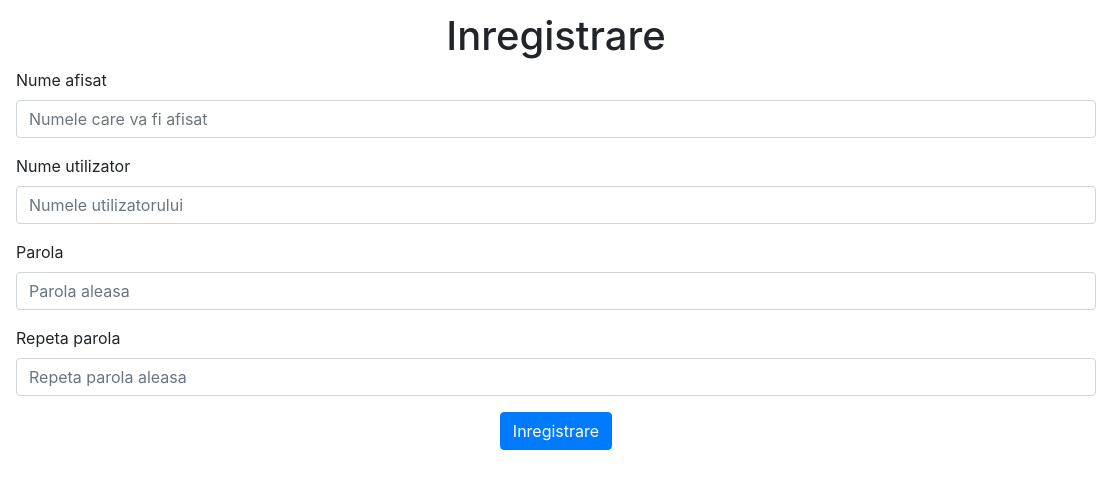
Test: PaginaInregistrareUtilizator › Interactiuni › 12. Afișează eroarea de validare pentru numele utilizatorului atunci când primește eroare pentru acest câmp.
This screenshot has width=1113, height=490.
Type "nume-afisat" into the field with placeholder "Numele care va fi afisat" at (556, 119), box x1=16 y1=100 x2=1096 y2=138
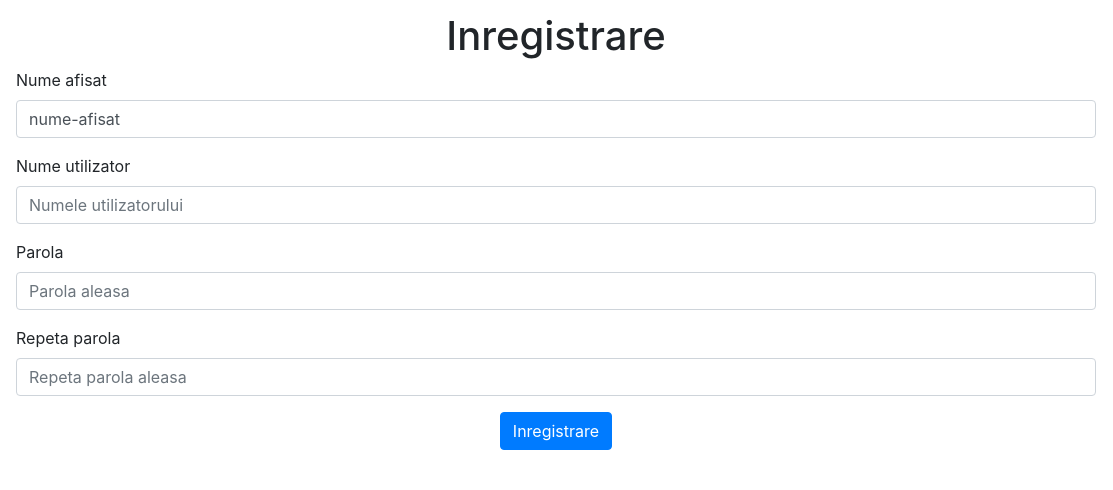
Type "nume-utilizator" into the field with placeholder "Numele utilizatorului" at (556, 205), box x1=16 y1=186 x2=1096 y2=224
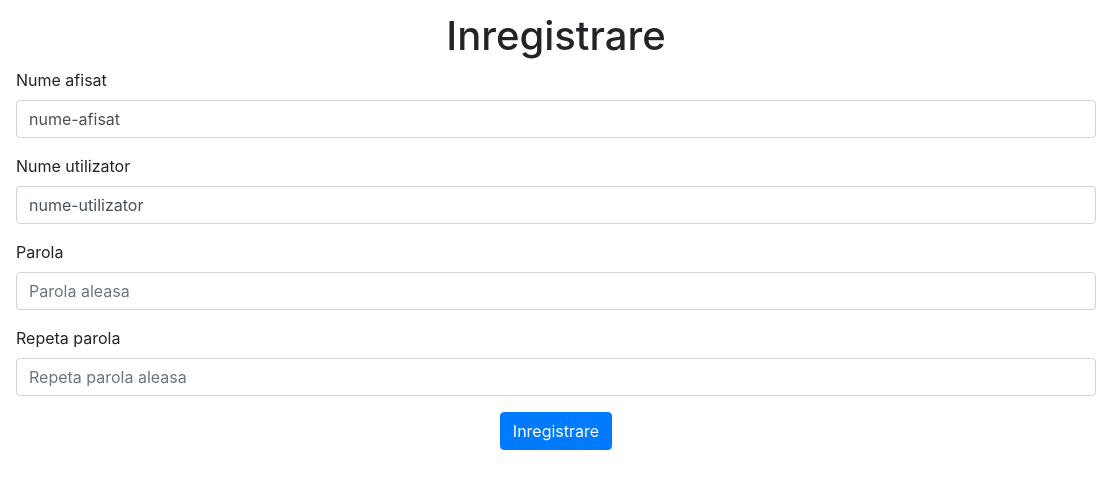
Type "Parola01" into the password field with placeholder "Parola aleasa" at (556, 291), box x1=16 y1=272 x2=1096 y2=310
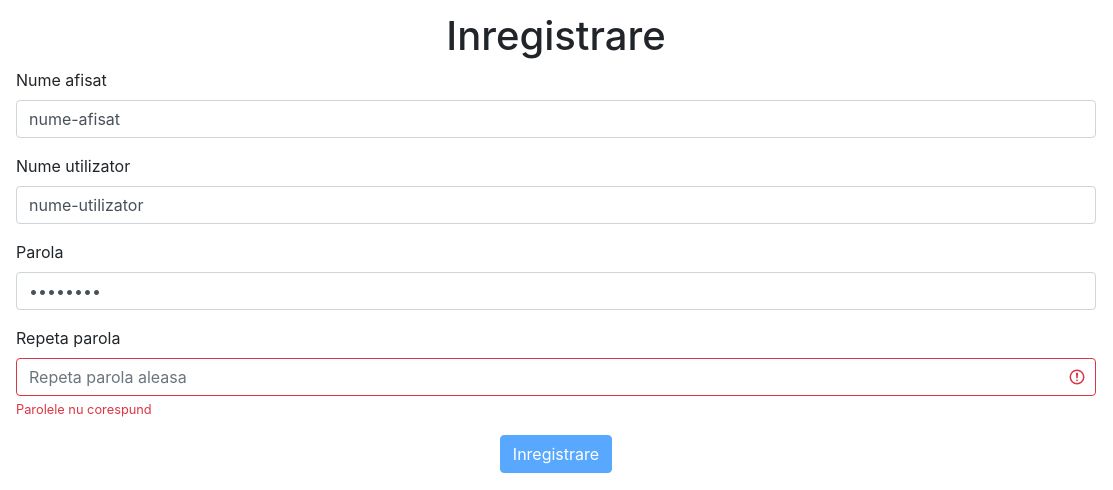
Type "Parola01" into the password field with placeholder "Repeta parola aleasa" at (556, 377), box x1=16 y1=358 x2=1096 y2=396
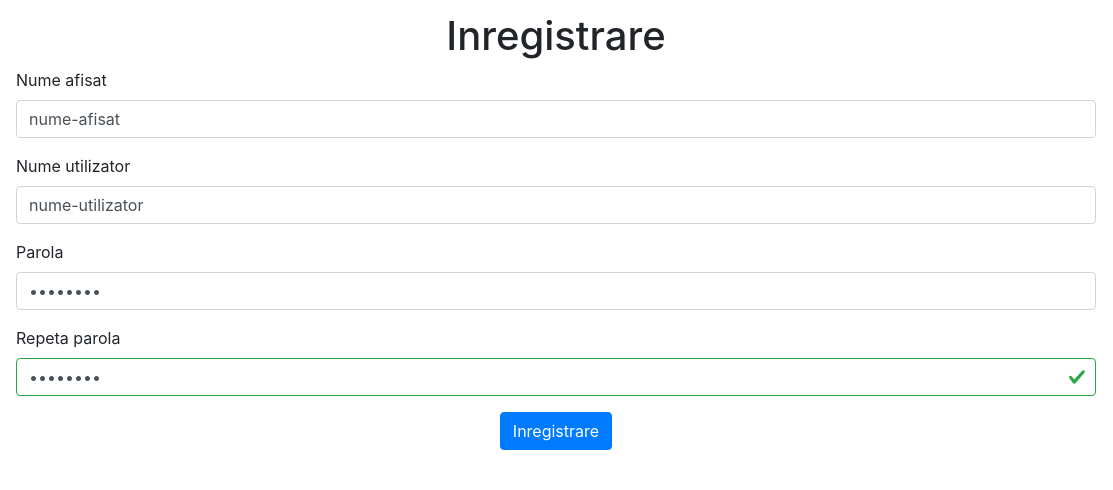
Click the button "Inregistrare" at (556, 431), box x1=500 y1=412 x2=612 y2=450
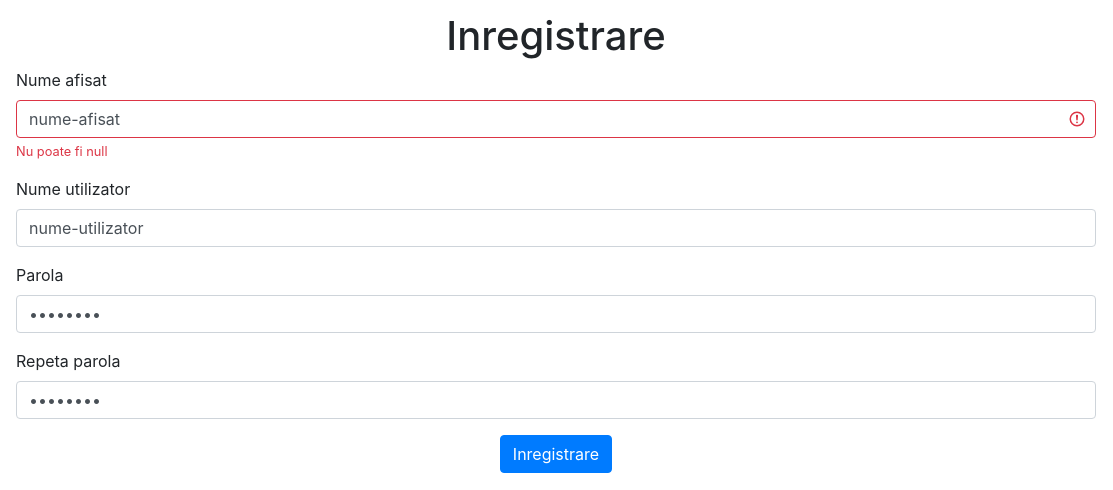
Expected: the text "Nu poate fi null" is shown, x1=16 y1=144 x2=108 y2=159
